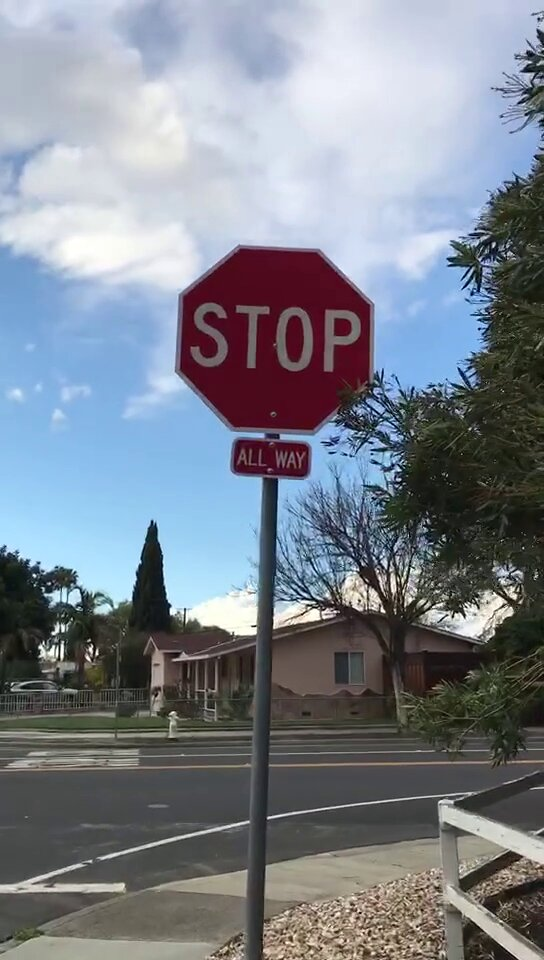stop_sign: (175, 245, 375, 433)
